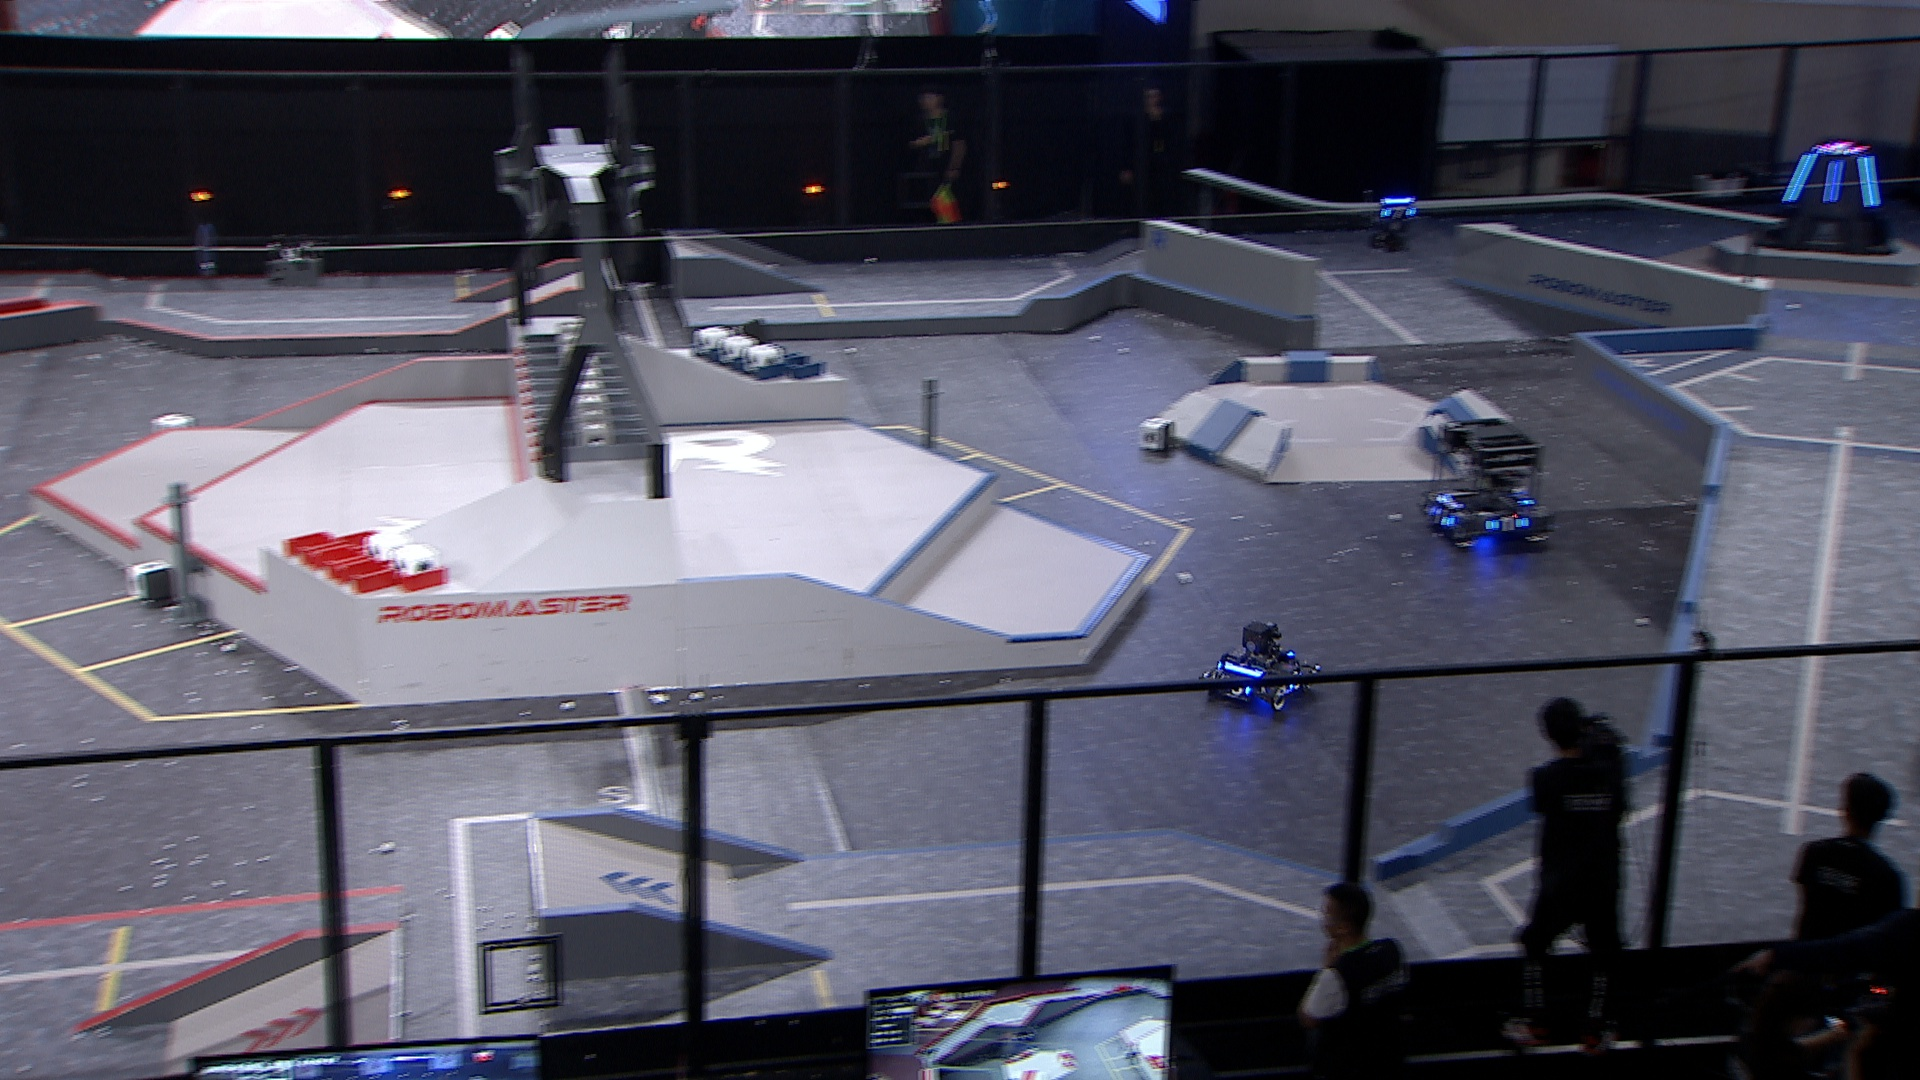armor: (1779, 149, 1821, 204), (1858, 149, 1883, 210), (1820, 157, 1847, 207), (1377, 202, 1418, 223), (1486, 513, 1531, 531), (1429, 500, 1455, 531)
base: (1753, 138, 1899, 258)
car: (1414, 410, 1561, 553), (1195, 618, 1317, 713)
ignore: (1816, 144, 1859, 156)
watcher: (1366, 186, 1422, 251)
